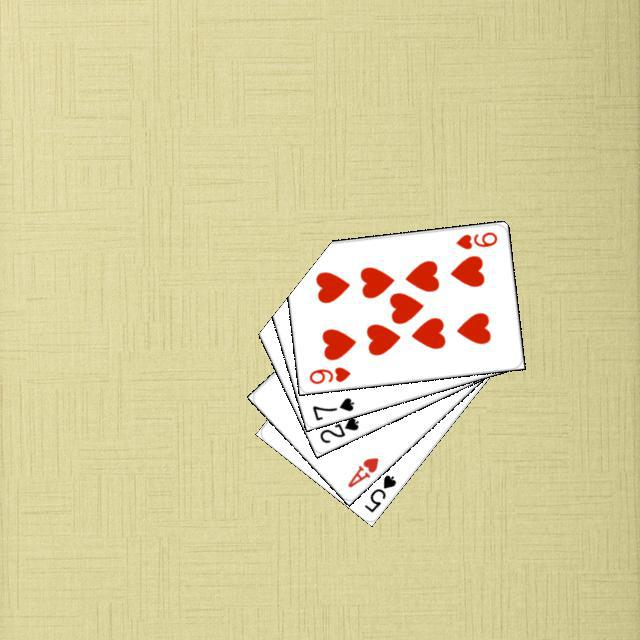2s: (314, 412, 361, 445)
5s: (359, 470, 398, 514)
7s: (307, 392, 356, 422)
9h: (304, 362, 352, 386), (451, 227, 499, 251)
Ah: (343, 452, 380, 490)
